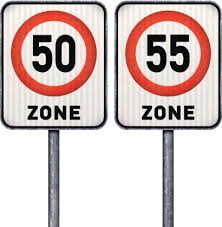sp50: (5, 11, 103, 94)
sp55: (120, 15, 219, 97)
